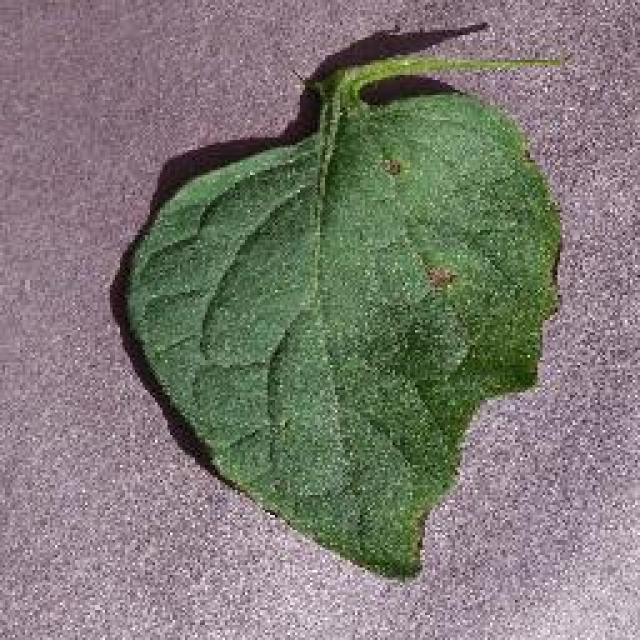Tomato___Target_Spot: (128, 58, 558, 580)
